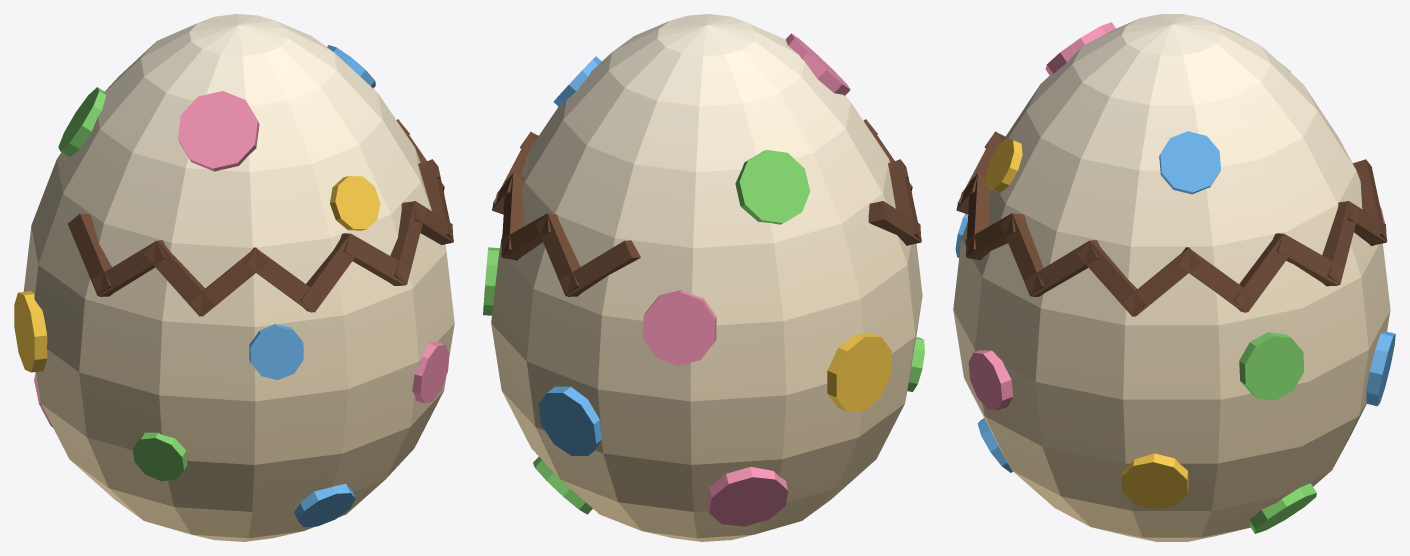
The model's file is egg_crack.glb.
3 renders of one model, left to right at view 1: azimuth 30°, elevation 25°; view 2: azimuth 150°, elevation 25°; view 3: azimuth 270°, elevation 25°, orthographic.
Parts seen in each view (by area): view 1: shell; view 2: shell; view 3: shell.
Boxes of the visible parts, <box> form: shell: <box>14,14,454,541</box>; shell: <box>483,14,924,541</box>; shell: <box>953,14,1395,541</box>.
Bounding box in the file's own units: 1.02 × 1.27 × 1.02.
1 material, 1 textured.
